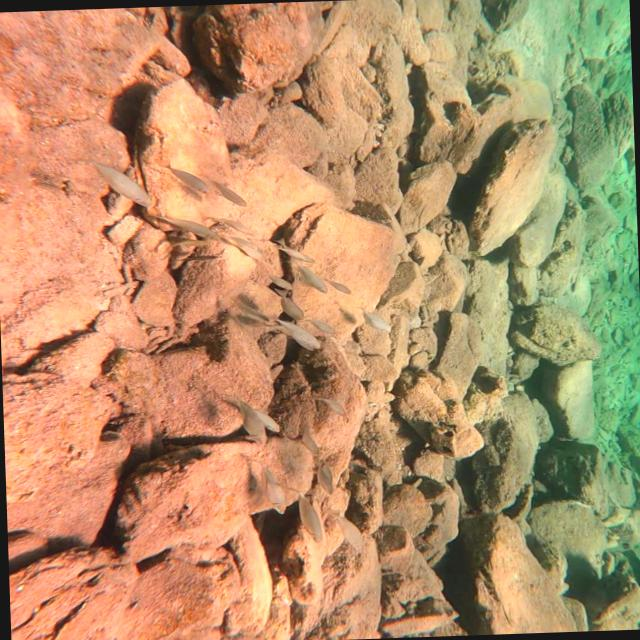Sokar Baligi: (70, 149, 164, 212), (280, 481, 329, 549)
